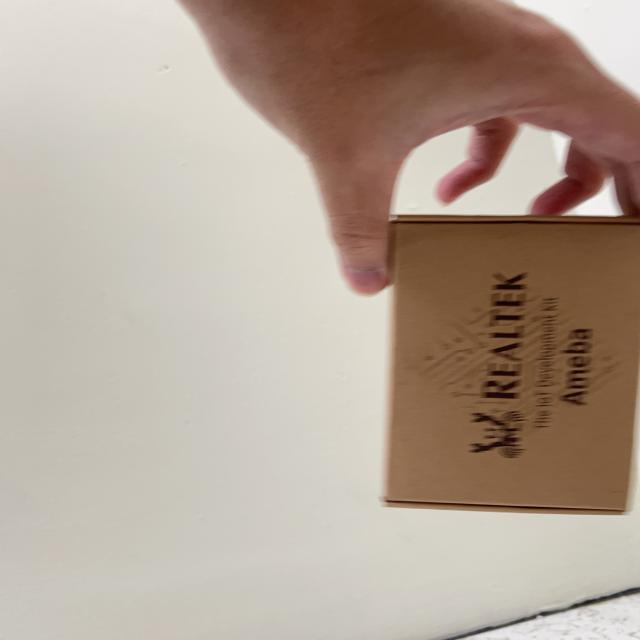box: (372, 197, 640, 531)
